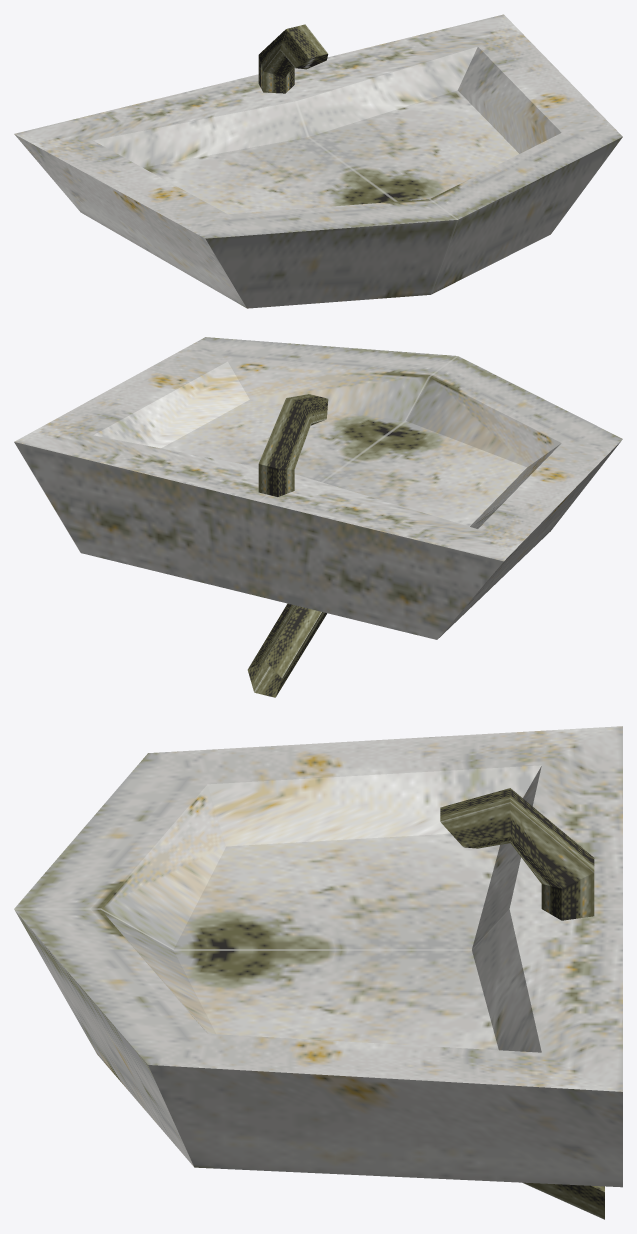
The model's file is silk.fbx.
3 renders of one model, top to bottom at view 1: azimuth 30°, elevation 25°; view 2: azimuth 150°, elevation 25°; view 3: azimuth 270°, elevation 25°, orthographic. The views are drawn at different scales.
Parts seen in each view (by area): view 1: Sink; view 2: Sink; view 3: Sink.
Part boxes in pixels (box(x1,y1,x2,y2)): Sink: box(14, 14, 622, 308); Sink: box(14, 337, 622, 697); Sink: box(14, 726, 622, 1219).
Bounding box in the file's own units: 75.87 × 40.29 × 53.38.
Materials: 1 (1 with a texture image).
